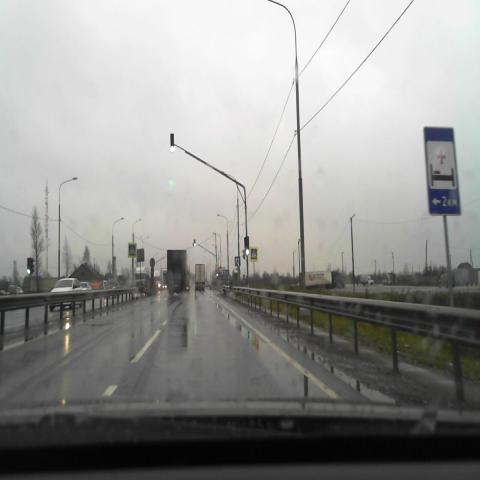7_2: (424, 126, 461, 215)
